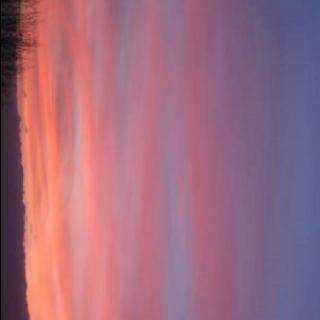Contrails: (36, 0, 280, 320)
